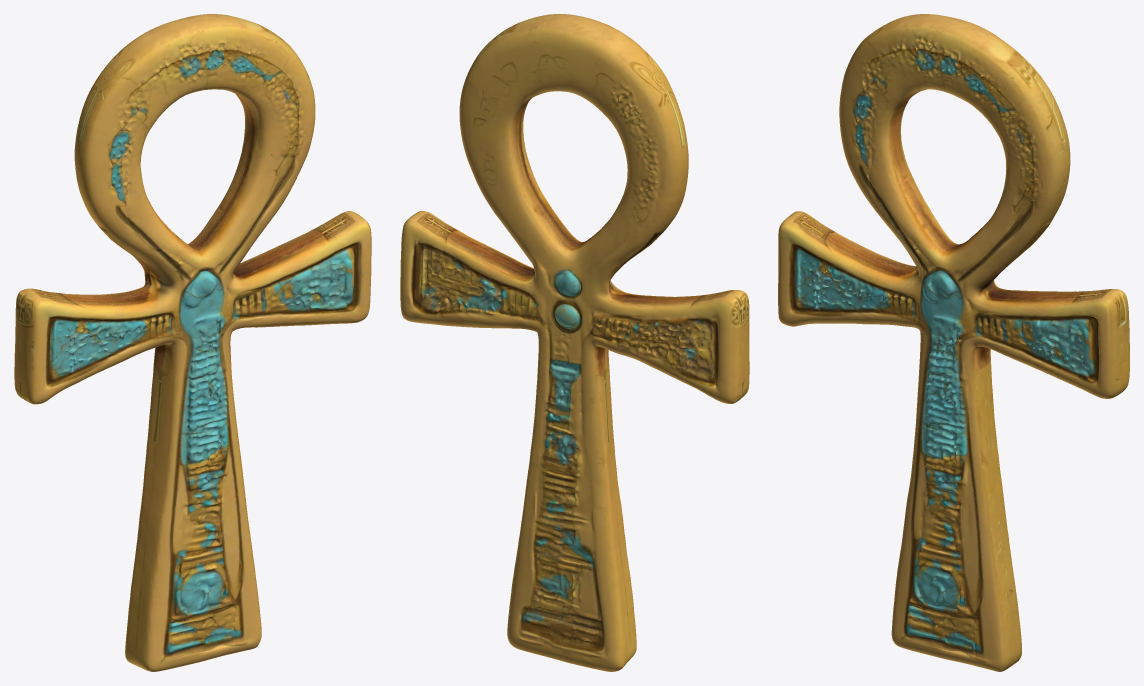
File: ankh-optimized.glb
3 renders of one model, left to right at view 1: azimuth 30°, elevation 25°; view 2: azimuth 150°, elevation 25°; view 3: azimuth 330°, elevation 25°, orthographic.
Size of the model in its own units: 1.12 by 2 by 0.1653.
1 material, 1 textured.
